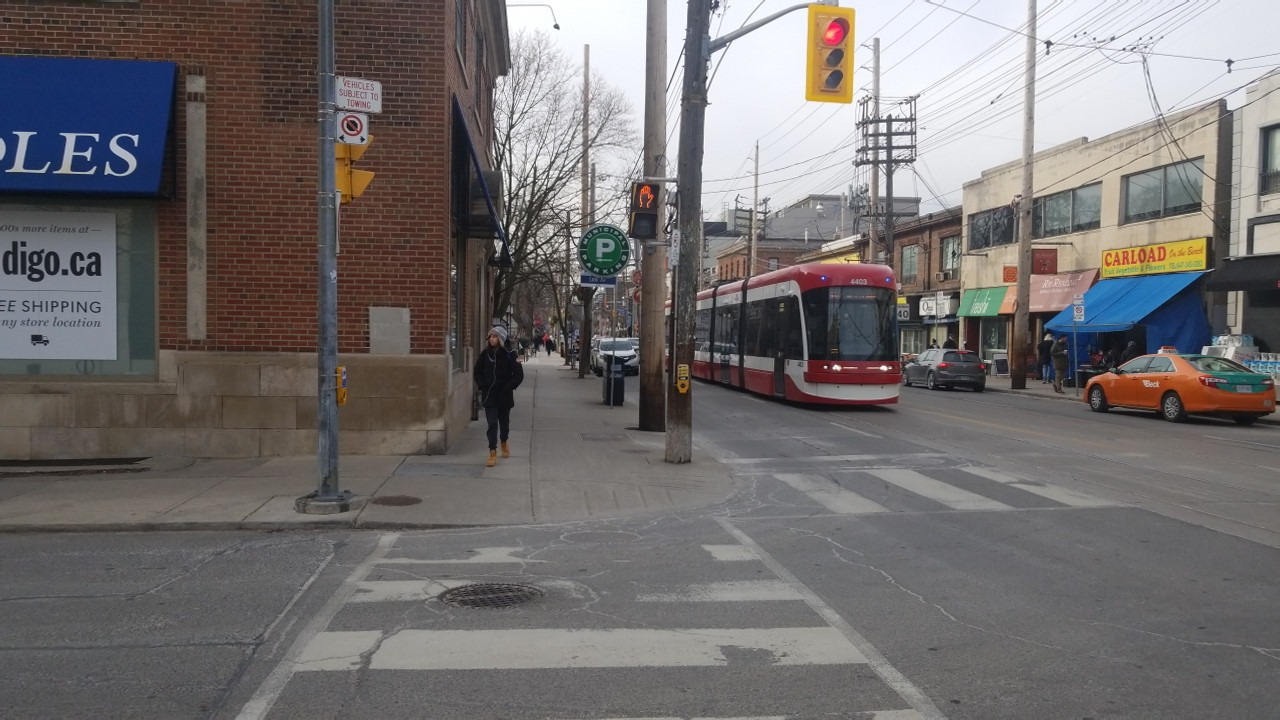light: (628, 179, 660, 238)
